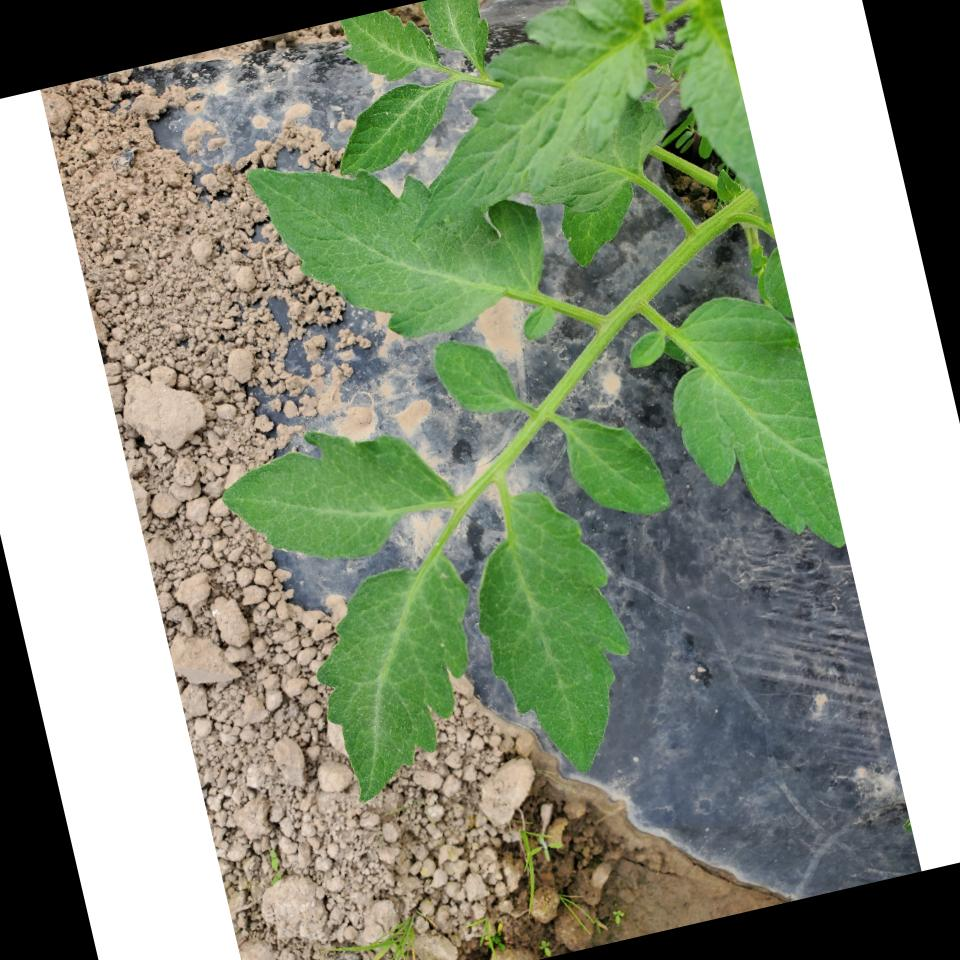tomato_leaves: (246, 106, 556, 360), (457, 474, 652, 778), (295, 550, 500, 806), (221, 407, 466, 575), (326, 74, 470, 177), (563, 400, 671, 528), (428, 326, 524, 422)
